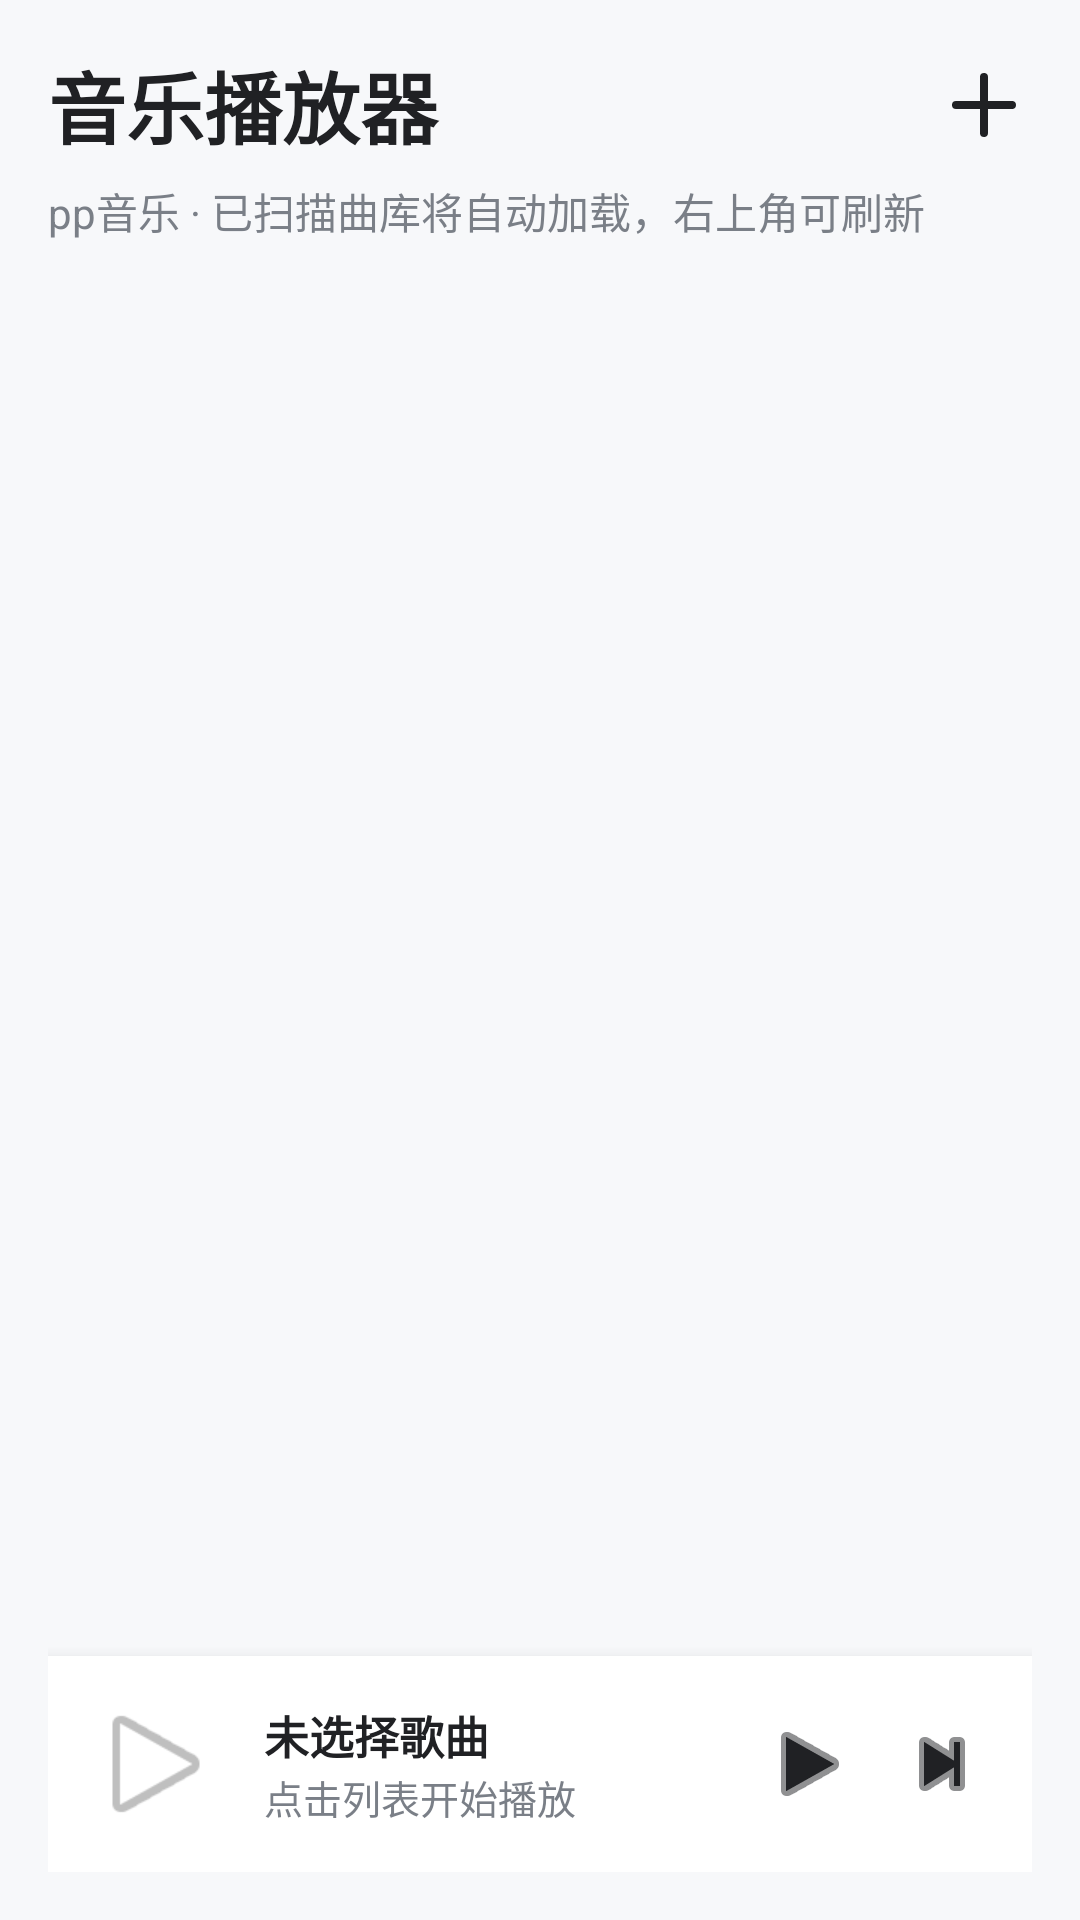

Icons on this 1080x1920 Android screen, each with its box as (x1, y1, x2, y2):
下一首: (919, 1737, 965, 1791)
扫描本地歌曲: (952, 73, 1016, 137)
播放或暂停: (781, 1732, 839, 1796)
